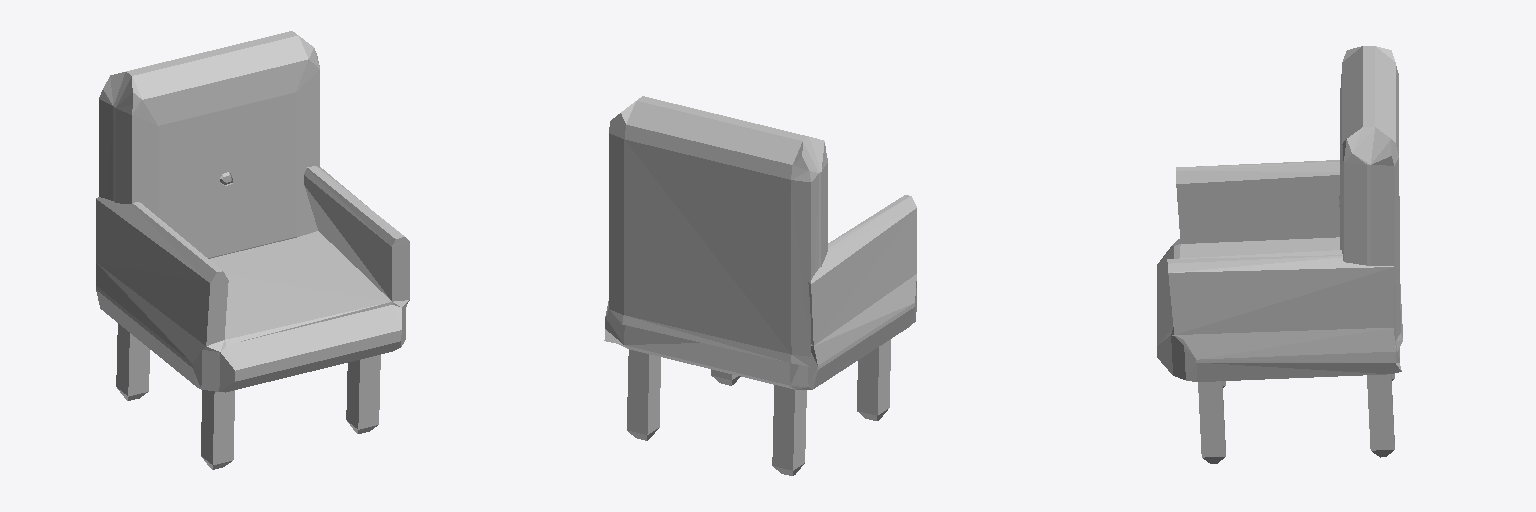
Rendered from big stoel werk pls.obj.
The picture shows the model from 3 angles: view 1: azimuth 30°, elevation 25°; view 2: azimuth 150°, elevation 25°; view 3: azimuth 270°, elevation 25°; orthographic projection.
Parts seen in each view (by area): view 1: stoel_big_Cube.008; view 2: stoel_big_Cube.008; view 3: stoel_big_Cube.008.
Boxes of the visible parts, box(x1,y1,x2,y2) form: stoel_big_Cube.008: box(96, 31, 409, 469); stoel_big_Cube.008: box(604, 96, 916, 475); stoel_big_Cube.008: box(1157, 46, 1402, 463).
Size of the model in its own units: 1.87 by 2.89 by 1.9.